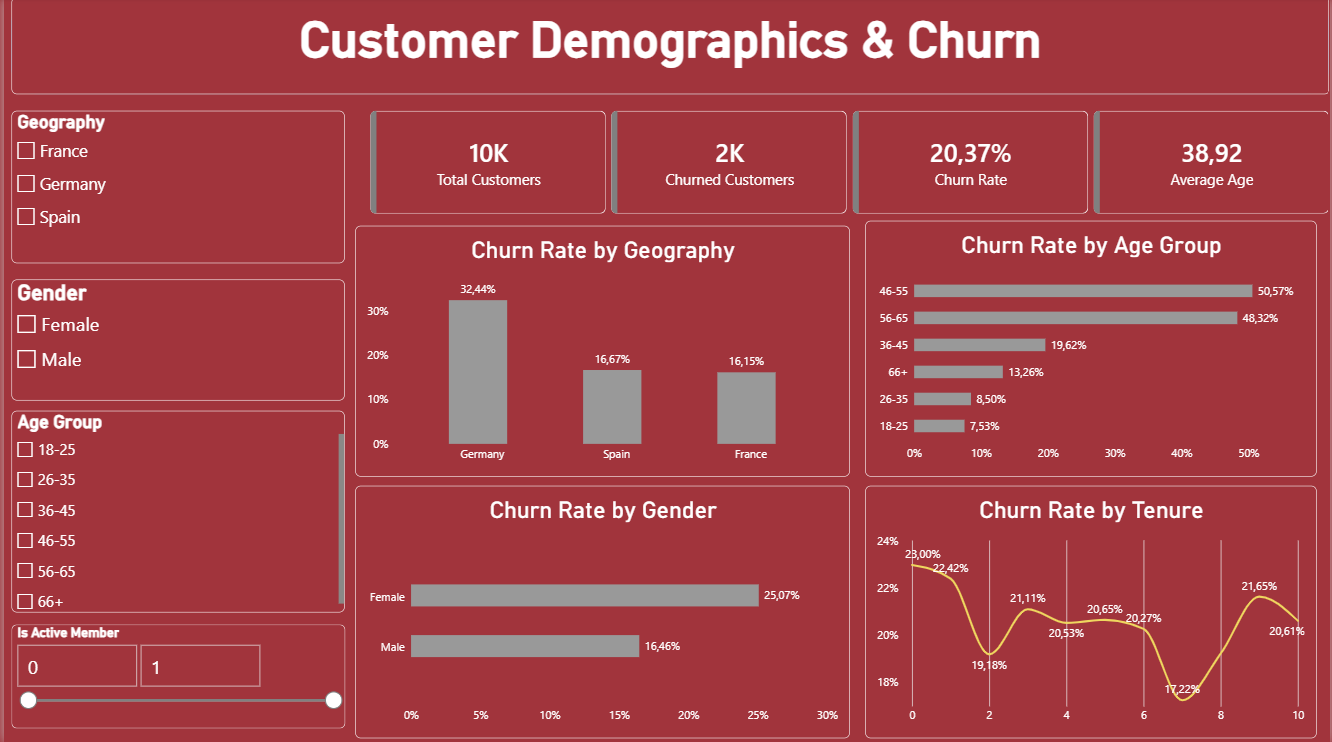

Layout of this report page (visuals, bound fields, positions):
{"tool":"powerbi","page":{"name":"Customer Demographics & Churn","canvas":[1920,1080],"ordinal":1},"visuals":[{"type":"textbox","box":[10.8,0,1908.8,279.2],"z":0},{"type":"shape","box":[10.8,0,1908.8,140.7],"z":1000},{"type":"textbox","box":[10.8,0,1908.8,140.7],"z":2000},{"type":"cardVisual","fields":{"Data":["churn.Total Customers","churn.Churned Customers","churn.Churn Rate","churn.Average Age"]},"box":[530.2,164.5,1389.4,149.3],"z":3000},{"type":"clusteredColumnChart","title":"Churn Rate by Geography","fields":{"Category":["churn.Geography"],"Y":["churn.Churn Rate"]},"box":[508.6,331.1,716.3,363.6],"z":4000},{"type":"clusteredBarChart","fields":{"Category":["churn.Age Group"],"Y":["churn.Churn Rate"]},"box":[1246.5,324.6,653.6,370.1],"z":5000},{"type":"lineChart","fields":{"Category":["churn.Tenure"],"Y":["churn.Churn Rate"]},"box":[1246.5,707.7,653.6,365.7],"z":6000},{"type":"slicer","fields":{"Values":["churn.Geography"]},"box":[10.8,164.5,482.6,220.7],"z":7000},{"type":"slicer","fields":{"Values":["churn.Gender"]},"box":[10.8,409,482.6,175.3],"z":8000},{"type":"slicer","fields":{"Values":["churn.Age Group"]},"box":[10.8,599.5,482.6,292.2],"z":9000},{"type":"slicer","fields":{"Values":["churn.Is Active Member"]},"box":[10.8,908.9,483,150],"z":10000},{"type":"clusteredBarChart","fields":{"Category":["churn.Gender"],"Y":["churn.Churn Rate"]},"box":[508.6,707.7,716.3,365.7],"z":11000}]}

Visuals, with their boxes in screenshot pixels (x1, y1, x2, y2), scaled from the page's 1920x1080 canvas onto the 1332x742 screenshot:
textbox: [7, 0, 1331, 192]
shape: [7, 0, 1331, 97]
textbox: [7, 0, 1331, 97]
cardVisual - churn.Total Customers x churn.Churned Customers: [368, 113, 1331, 216]
"Churn Rate by Geography" clusteredColumnChart: [353, 227, 850, 477]
clusteredBarChart - churn.Age Group x churn.Churn Rate: [865, 223, 1318, 477]
lineChart - churn.Tenure x churn.Churn Rate: [865, 486, 1318, 737]
slicer - churn.Geography: [7, 113, 342, 265]
slicer - churn.Gender: [7, 281, 342, 401]
slicer - churn.Age Group: [7, 412, 342, 613]
slicer - churn.Is Active Member: [7, 624, 343, 728]
clusteredBarChart - churn.Gender x churn.Churn Rate: [353, 486, 850, 737]
